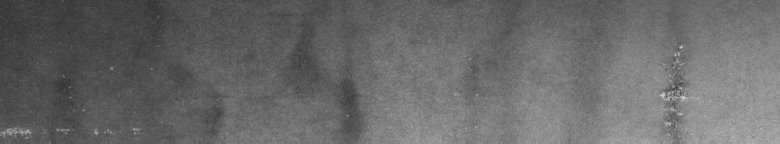hc: (660, 43, 699, 136)
